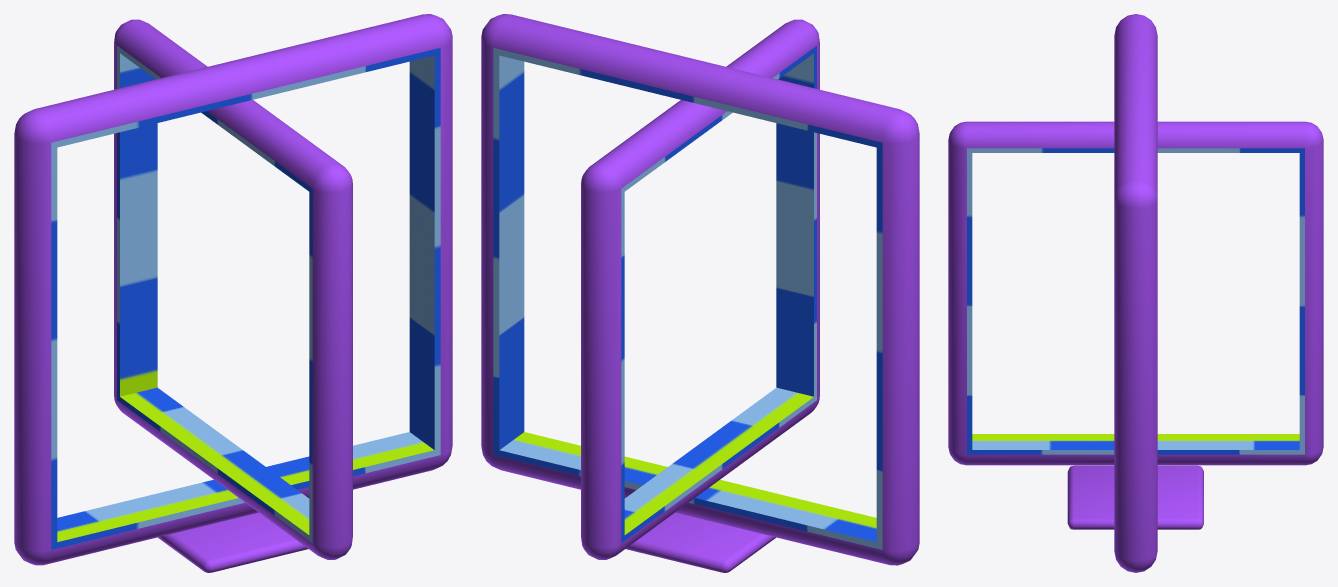
File: LightTable07_4.FBX
3 renders of one model, left to right at view 1: azimuth 30°, elevation 25°; view 2: azimuth 150°, elevation 25°; view 3: azimuth 270°, elevation 25°, orthographic. The views are drawn at different scales.
Parts seen in each view (by area): view 1: LightTable07_4; view 2: LightTable07_4; view 3: LightTable07_4.
Boxes of the visible parts, box(x1,y1,x2,y2) form: LightTable07_4: box(14, 14, 452, 572); LightTable07_4: box(481, 14, 919, 572); LightTable07_4: box(948, 14, 1323, 572).
Bounding box in the file's own units: 38 × 39.33 × 33.09.
